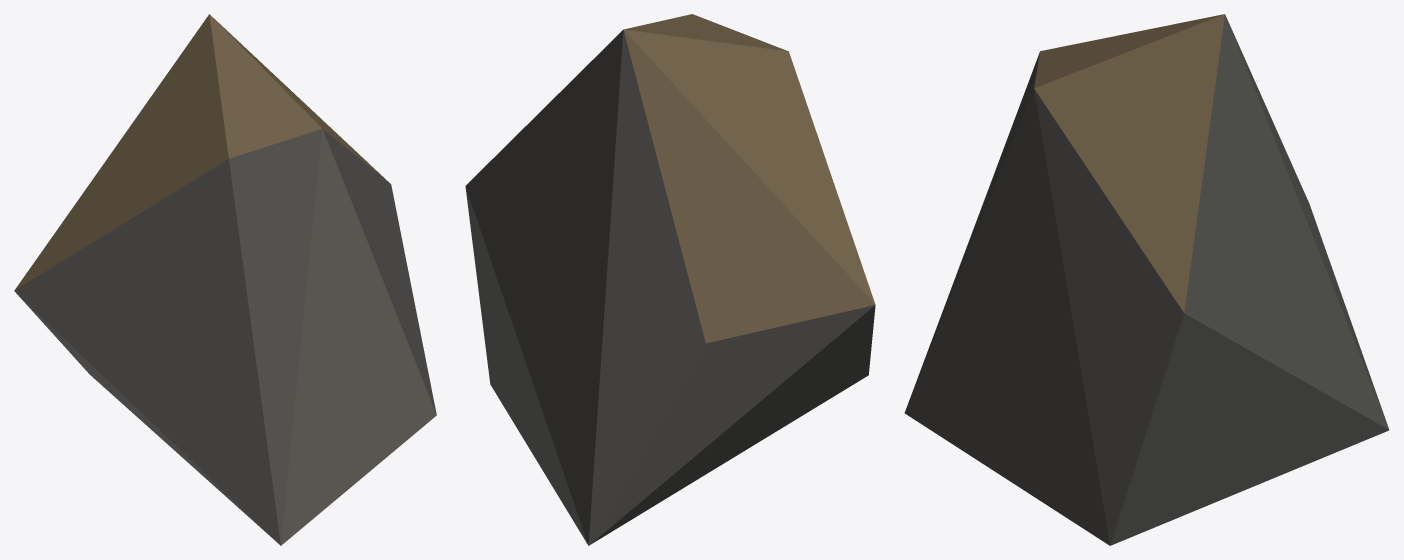
The model's file is granite_scree_a.glb.
3 renders of one model, left to right at view 1: azimuth 30°, elevation 25°; view 2: azimuth 150°, elevation 25°; view 3: azimuth 270°, elevation 25°, orthographic. The views are drawn at different scales.
Visible parts, largest first — view 1: granite_scree_a; view 2: granite_scree_a; view 3: granite_scree_a.
Boxes of the visible parts, bbox=[...] form: granite_scree_a: bbox=[14, 14, 436, 545]; granite_scree_a: bbox=[465, 14, 875, 545]; granite_scree_a: bbox=[904, 14, 1389, 545].
Bounding box in the file's own units: 1 × 1 × 1.
